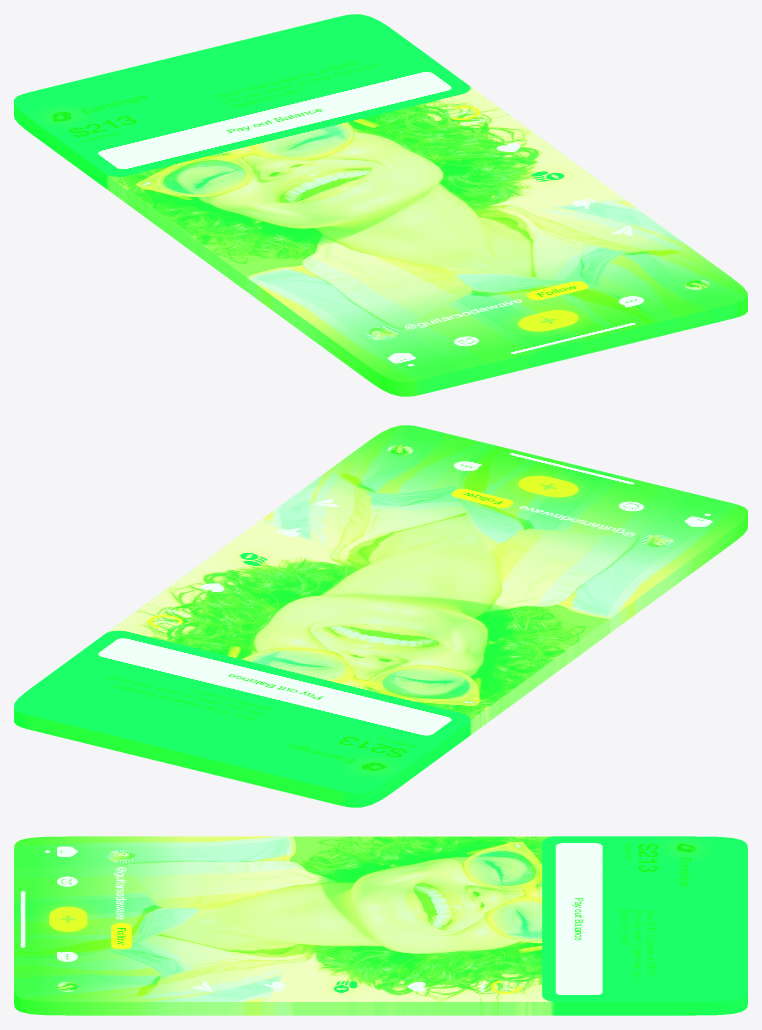
File: glw.glb
3 renders of one model, top to bottom at view 1: azimuth 30°, elevation 25°; view 2: azimuth 150°, elevation 25°; view 3: azimuth 270°, elevation 25°, orthographic. The views are drawn at different scales.
Parts seen in each view (by area): view 1: Plane; view 2: Plane; view 3: Plane.
Boxes of the visible parts, x1,y1,x2,y2 form: Plane: (14, 14, 747, 396); Plane: (14, 425, 747, 807); Plane: (14, 836, 747, 1015).
Bounding box in the file's own units: 2 × 0.076 × 3.75.
Materials: 1 (1 with a texture image).
